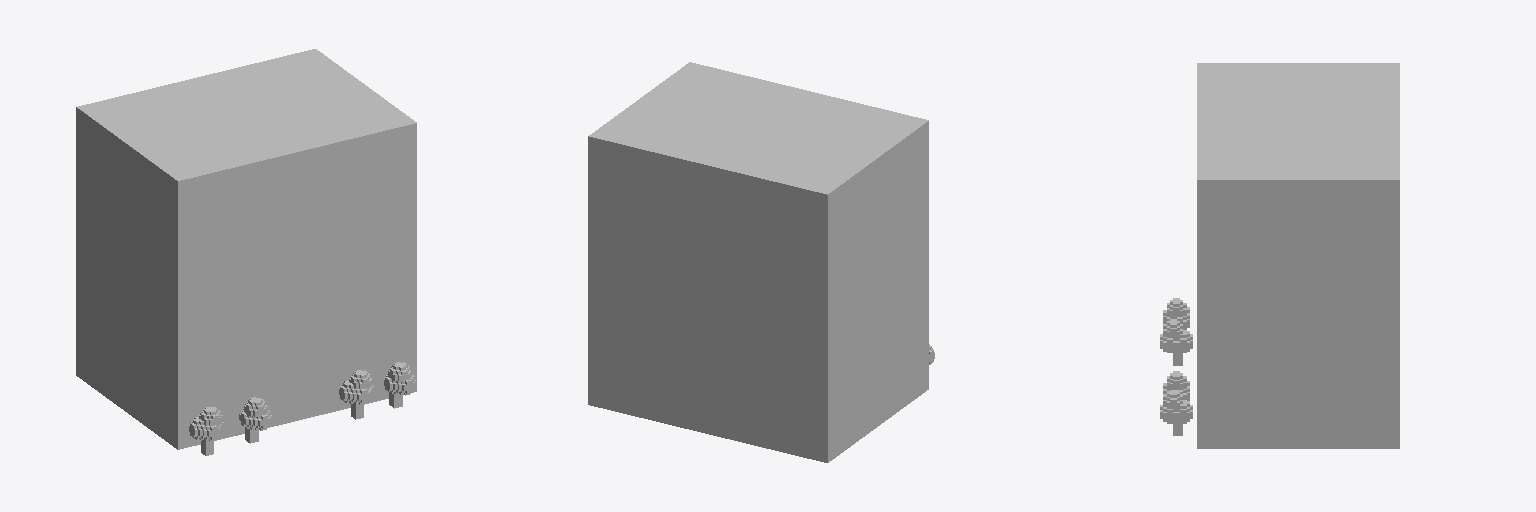
File: building.obj
3 renders of one model, left to right at view 1: azimuth 30°, elevation 25°; view 2: azimuth 150°, elevation 25°; view 3: azimuth 270°, elevation 25°, orthographic.
Visible parts, largest first — view 1: building; view 2: building; view 3: building.
Part boxes in pixels (x1,y1,x2,y2): building: (76, 49, 416, 455); building: (588, 62, 934, 462); building: (1160, 63, 1399, 448).
Size of the model in its own units: 83 by 89 by 72.